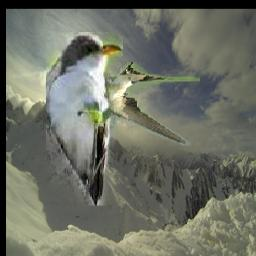Cuckoo: (45, 33, 122, 207)
Swallow: (78, 62, 200, 145)
